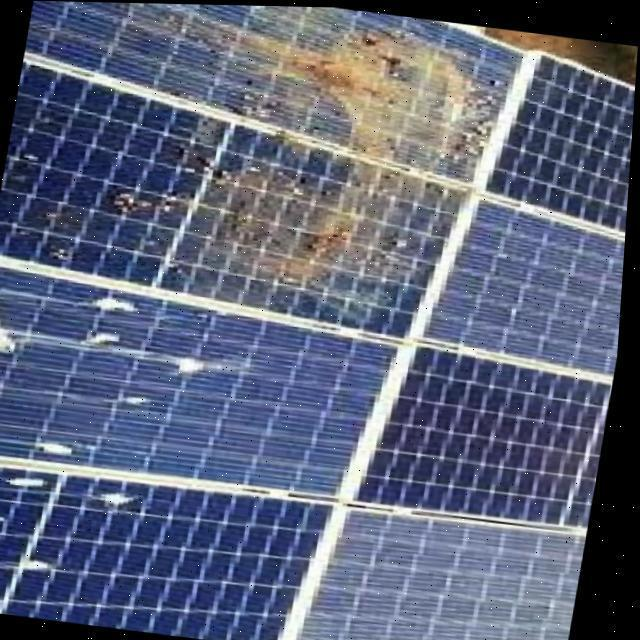Anomaly Solar Panel: (0, 1, 534, 346)
Surface Contaminant: (27, 2, 520, 184), (100, 111, 469, 329), (31, 198, 107, 231), (41, 243, 82, 262)
